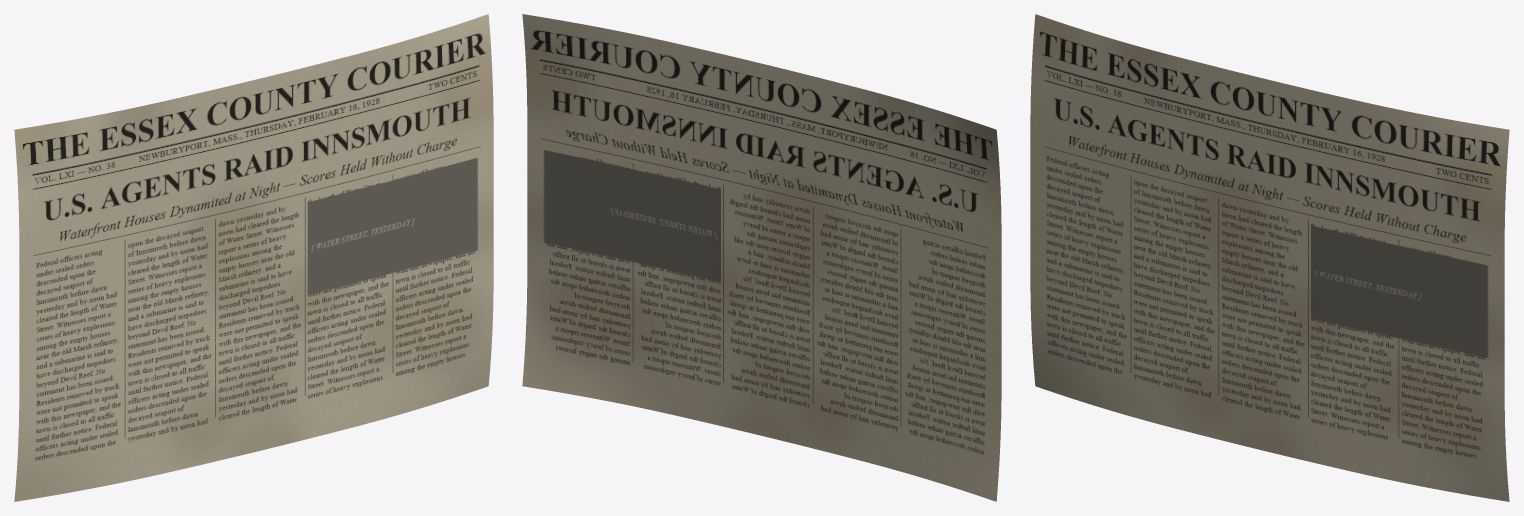
The model's file is mirror-newspaper.glb.
The picture shows the model from 3 angles, left to right: view 1: azimuth 30°, elevation 25°; view 2: azimuth 150°, elevation 25°; view 3: azimuth 330°, elevation 25°; orthographic projection.
Visible parts, largest first — view 1: Front; view 2: Back; view 3: Front.
Boxes of the visible parts, box(x1,y1,x2,y2) form: Front: box(14, 14, 493, 501); Back: box(522, 14, 1001, 501); Front: box(1030, 14, 1509, 501).
Bounding box in the file's own units: 0.4 × 0.3 × 0.0132.
1 material, 1 textured.
